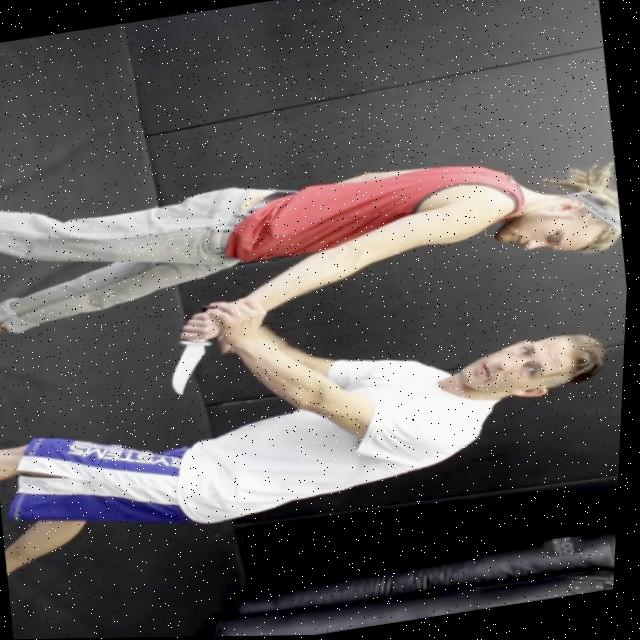knife: (157, 333, 224, 398)
